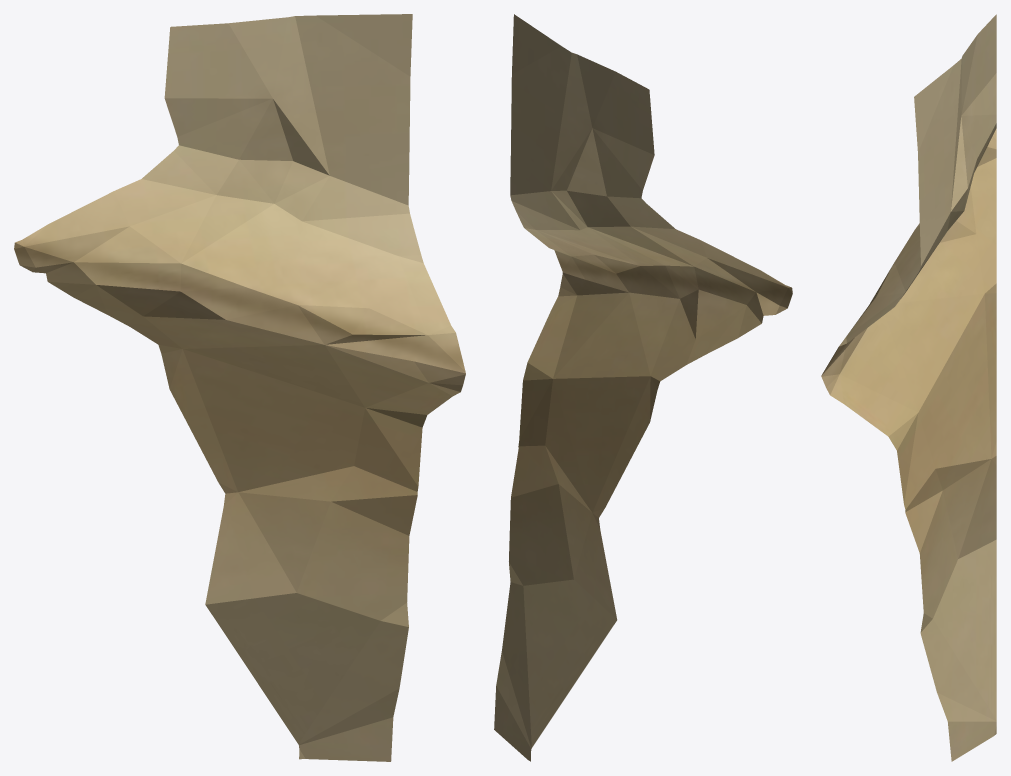
3 views of the same model, side by side, from view 1: azimuth 30°, elevation 25°; view 2: azimuth 150°, elevation 25°; view 3: azimuth 270°, elevation 25° (orthographic). The views are drawn at different scales.
Bounding box in the file's own units: 0.403 × 0.8374 × 0.2.
Materials: 1 (1 with a texture image).
